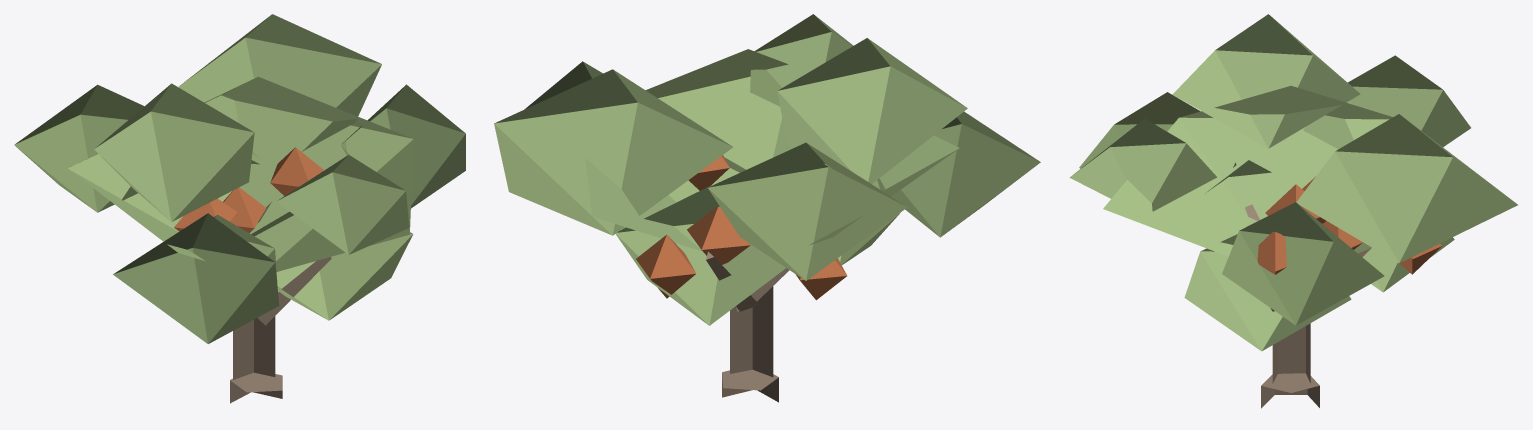
Rendered from tree.sub.citrus__spring.glb.
The picture shows the model from 3 angles, left to right: view 1: azimuth 30°, elevation 25°; view 2: azimuth 150°, elevation 25°; view 3: azimuth 270°, elevation 25°; orthographic projection. The views are drawn at different scales.
Visible parts, largest first — view 1: tree.sub.citrus__spring; view 2: tree.sub.citrus__spring; view 3: tree.sub.citrus__spring.
Part boxes in pixels (x1,y1,x2,y2): tree.sub.citrus__spring: (14, 14, 465, 403); tree.sub.citrus__spring: (494, 14, 1040, 402); tree.sub.citrus__spring: (1069, 14, 1517, 408).
Size of the model in its own units: 5.84 by 5.06 by 5.98.
